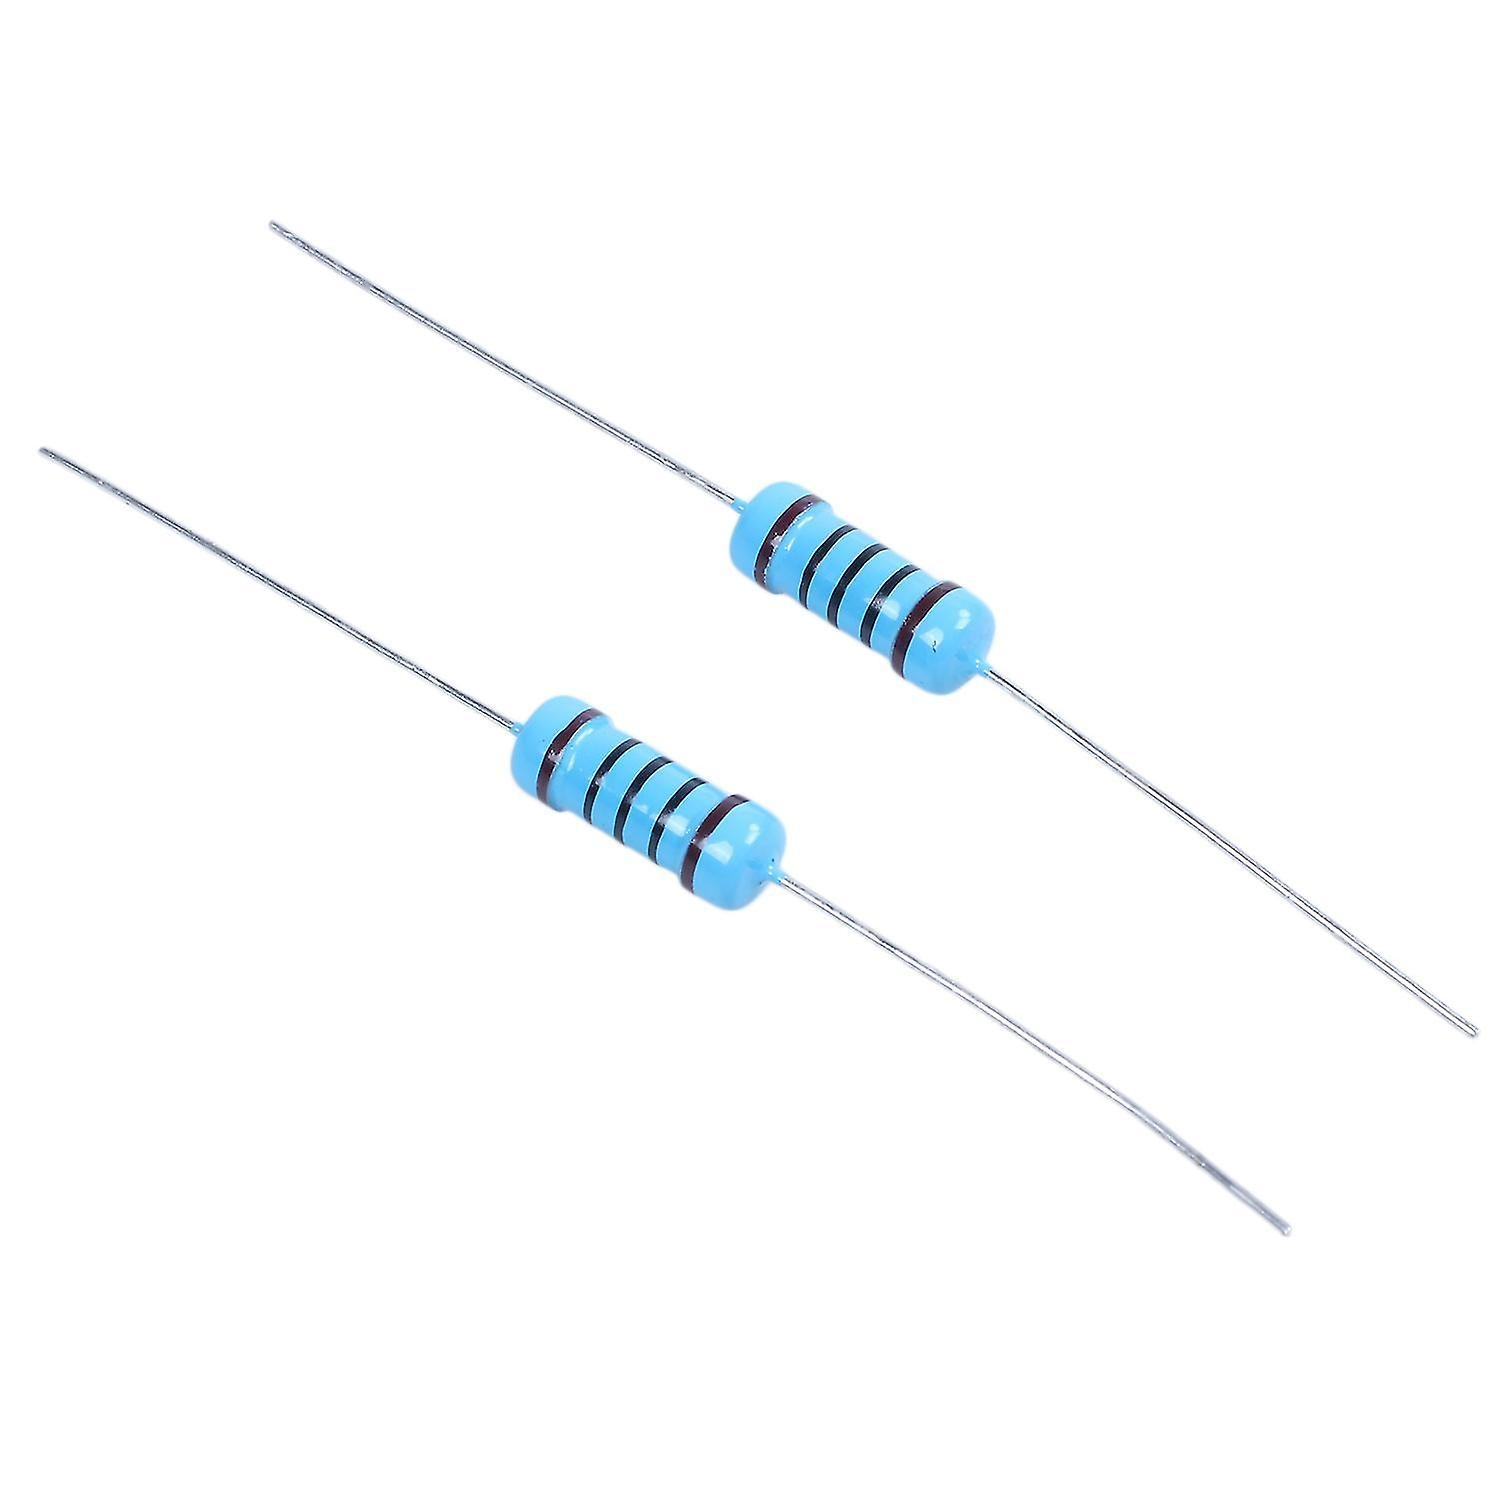resistor: (684, 434, 1047, 746), (466, 647, 828, 959)
